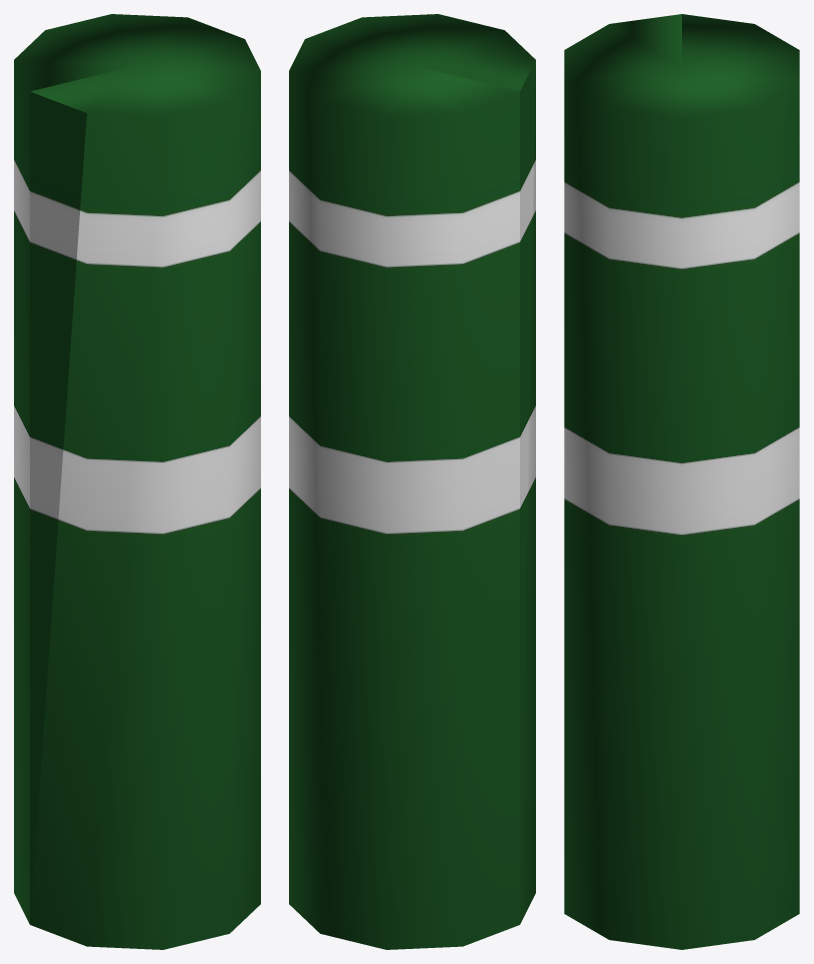
The model's file is post.fbx.
3 renders of one model, left to right at view 1: azimuth 30°, elevation 25°; view 2: azimuth 150°, elevation 25°; view 3: azimuth 270°, elevation 25°, orthographic.
Parts seen in each view (by area): view 1: POST1; view 2: POST1; view 3: POST1.
Boxes of the visible parts, <box> form: POST1: <box>14,14,260,949</box>; POST1: <box>289,14,535,949</box>; POST1: <box>564,14,799,949</box>.
Bounding box in the file's own units: 29.41 × 109 × 27.97.
Materials: 1 (1 with a texture image).
